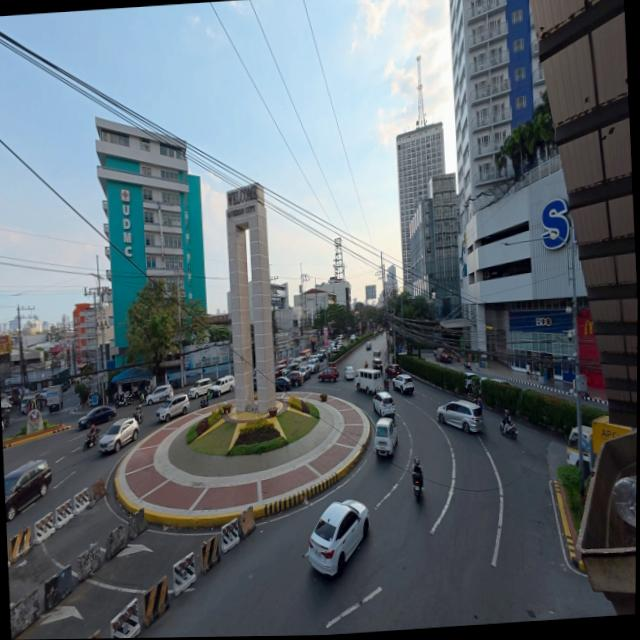car: (309, 500, 369, 575), (4, 459, 52, 521), (438, 400, 484, 432), (99, 419, 139, 452), (78, 406, 116, 430), (156, 395, 189, 422), (373, 391, 395, 417), (147, 384, 173, 406), (393, 374, 414, 394), (21, 394, 37, 413), (318, 367, 338, 382), (281, 362, 300, 377), (286, 371, 303, 386), (435, 348, 452, 363), (465, 372, 478, 390), (275, 378, 291, 392), (386, 364, 401, 378), (299, 365, 312, 380), (308, 357, 319, 372), (344, 366, 354, 380), (490, 379, 511, 385), (275, 366, 286, 377), (373, 358, 382, 371), (253, 370, 258, 391), (307, 354, 317, 364), (317, 351, 325, 361), (365, 341, 372, 352), (277, 360, 288, 366), (373, 350, 380, 358), (337, 343, 343, 351), (350, 335, 355, 341), (2, 421, 4, 431)
motorcycle: (83, 429, 101, 450), (500, 422, 518, 439), (413, 475, 422, 501), (117, 393, 128, 406), (134, 410, 143, 424), (199, 397, 206, 409), (464, 360, 471, 370)
trucks: (583, 416, 631, 462), (46, 386, 62, 412)
vans: (375, 417, 397, 454), (354, 368, 383, 394), (210, 376, 234, 396), (189, 379, 211, 398)
